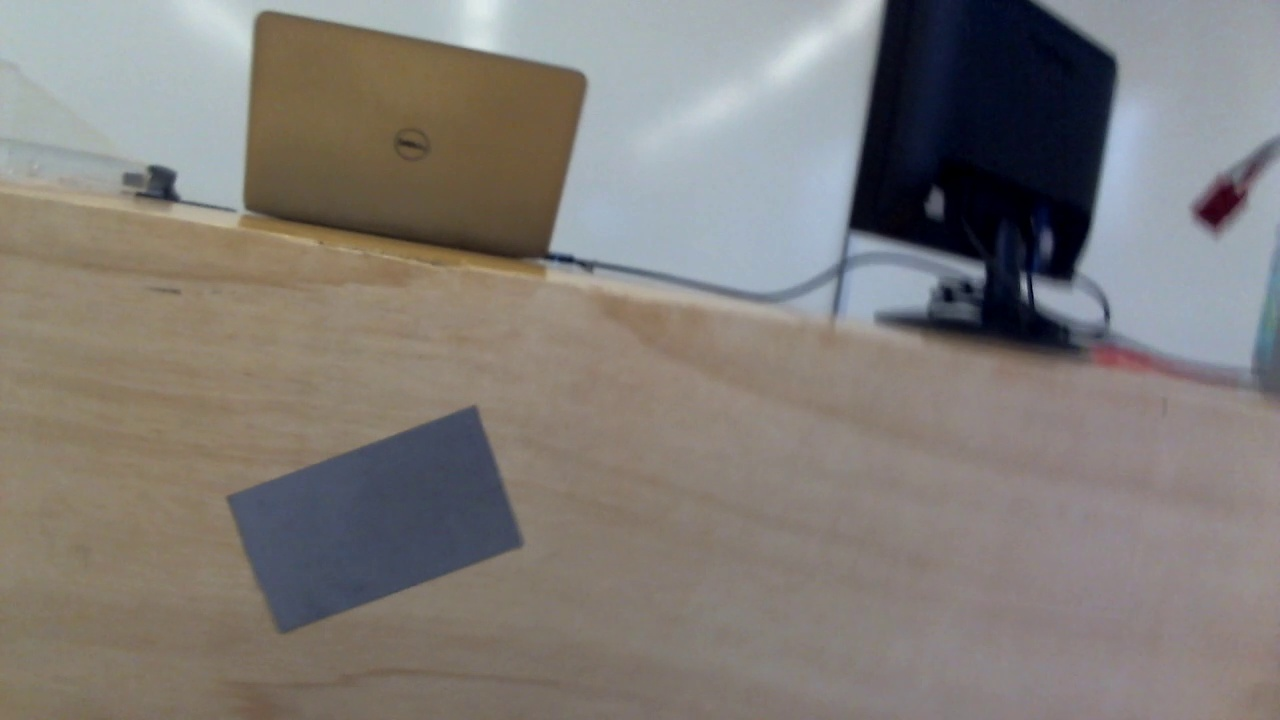Tape: (228, 405, 524, 632)
